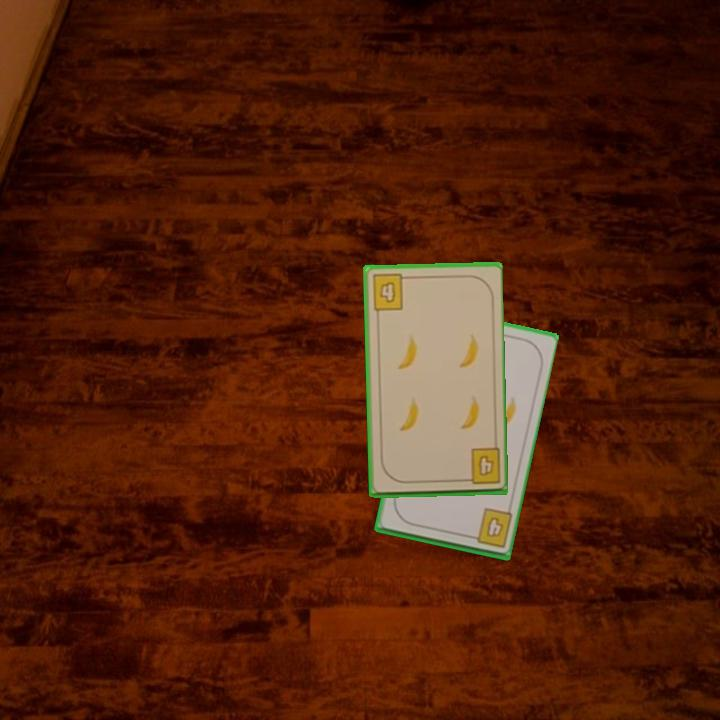4b: (464, 505, 514, 551), (458, 445, 503, 487), (369, 271, 411, 313)
